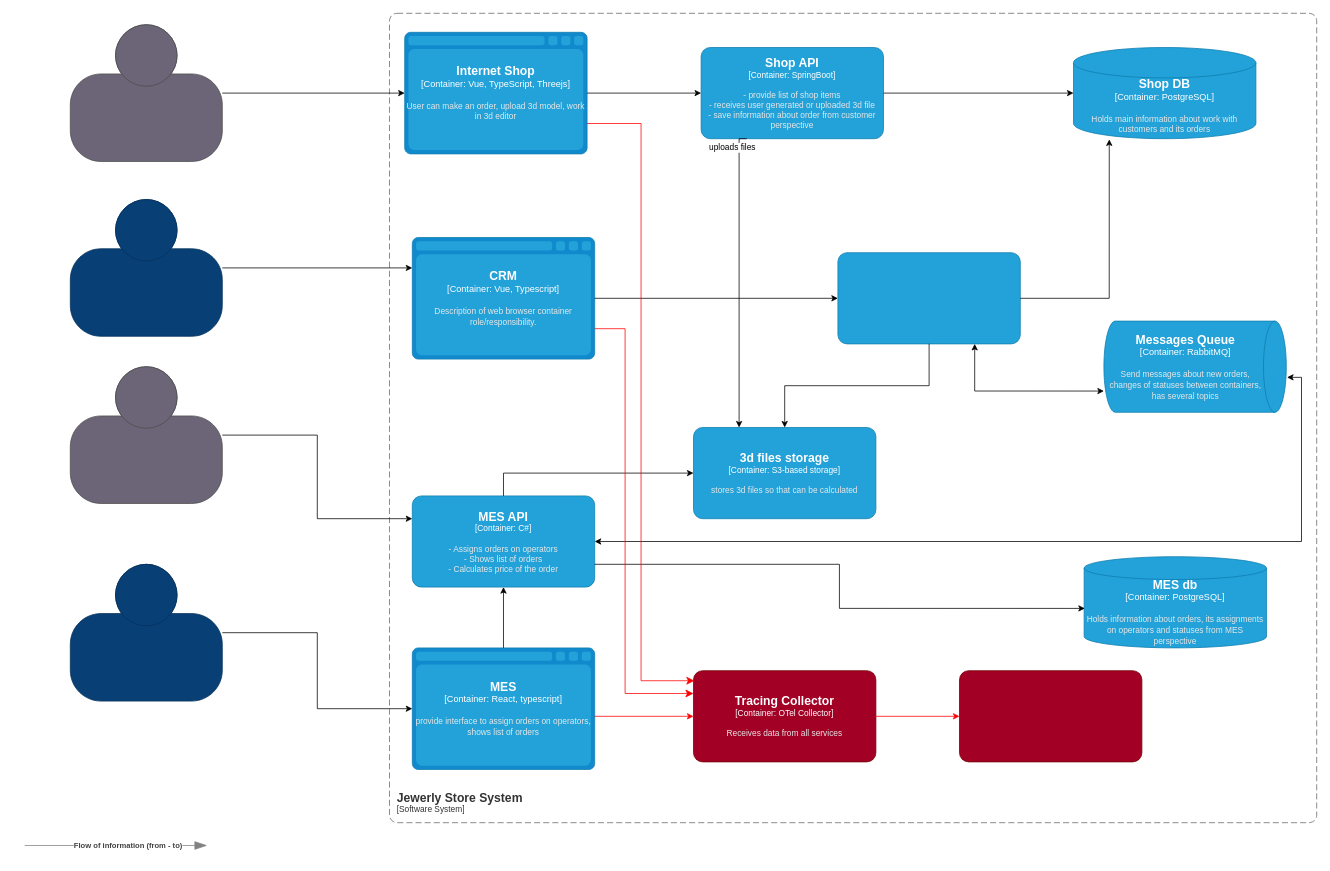
The diagram is 1330 pixels wide and 871 high, and some of its shapes have lost their labels. The shapes that lost their labels are listed below. From the top down, each one's centre as x and y in pixels, then its label:
the point at 146,93: Customer [Person] Description of external person.
the point at 146,267: Seller [Person] Operates with order, confirms manufacturing for the user
the point at 928,298: CRM API [Container: SpringBoot] Description of container role/responsibility.
the point at 146,435: API user [Person] Description of external person.
the point at 146,632: Operator [Person] Takes order in work, manufactures jewerly
the point at 1050,716: Tracing Storage [Container: Jaeger/Tempo] stores tracing
